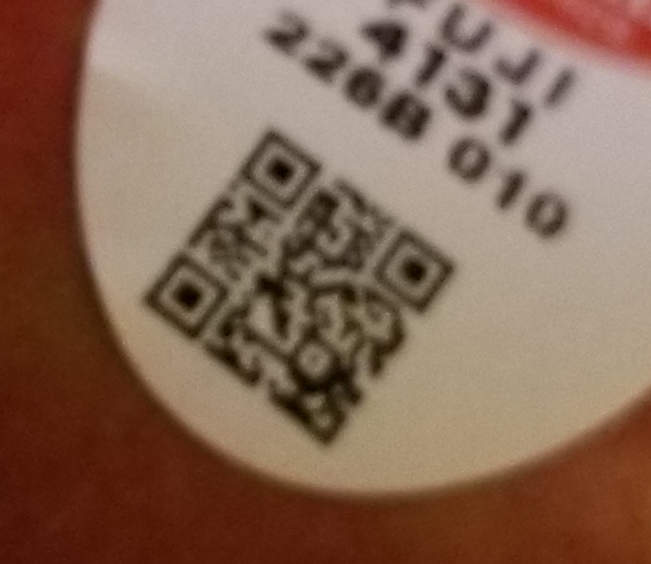QR_CODE: (123, 106, 501, 465)
